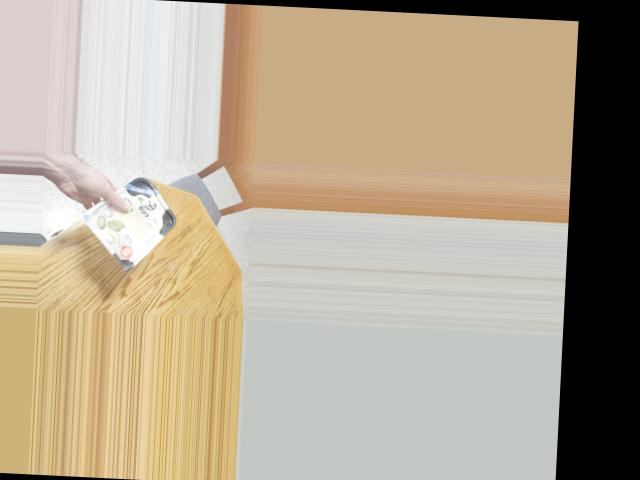cheese: (107, 180, 166, 263)
